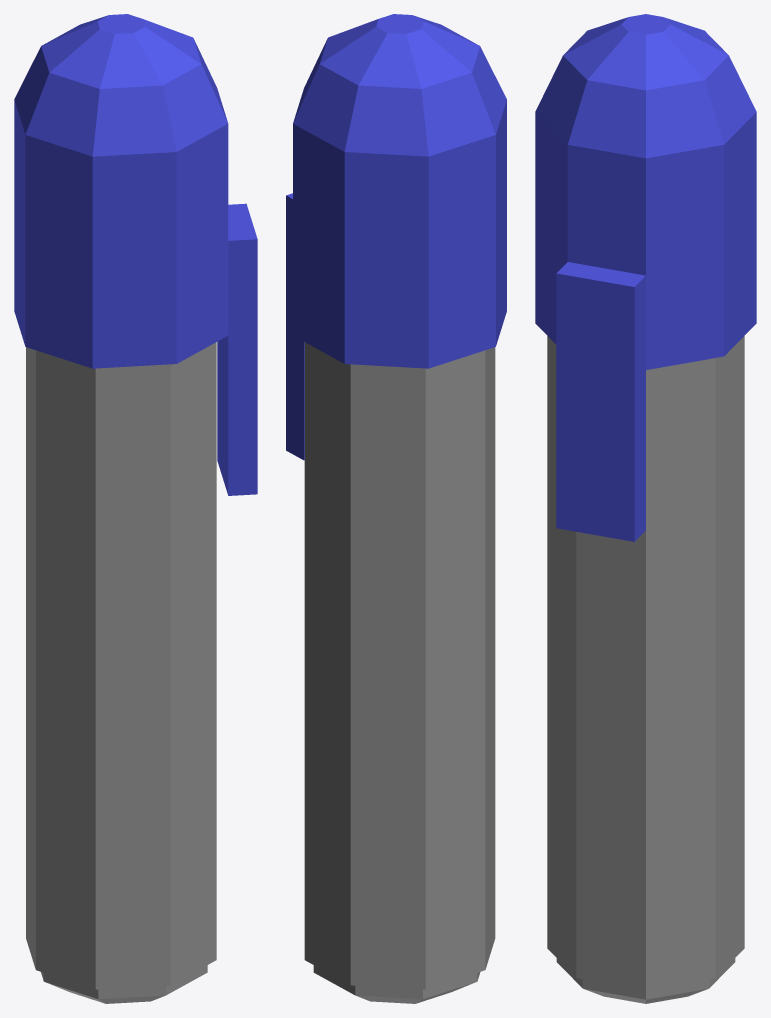
File: marker4.fbx
3 renders of one model, left to right at view 1: azimuth 30°, elevation 25°; view 2: azimuth 150°, elevation 25°; view 3: azimuth 270°, elevation 25°, orthographic.
Parts seen in each view (by area): view 1: marker4; view 2: marker4; view 3: marker4.
Part boxes in pixels (box(x1,y1,x2,y2)): marker4: box(14, 14, 257, 1003); marker4: box(286, 14, 506, 1003); marker4: box(535, 14, 756, 1003).
Bounding box in the file's own units: 0.0332 × 0.1407 × 0.0296.
